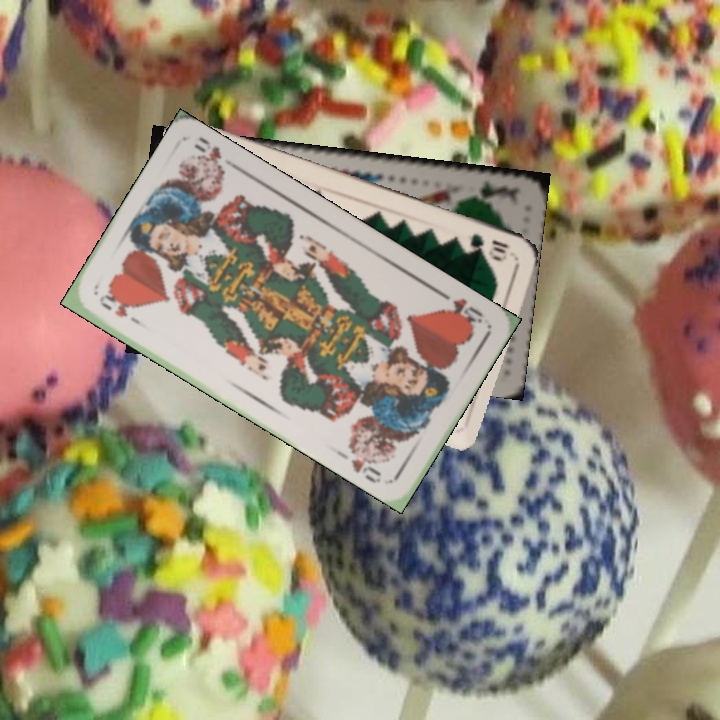G10: (466, 229, 513, 262)
GK: (465, 176, 517, 201)
HO: (436, 288, 486, 330), (95, 290, 146, 329)
